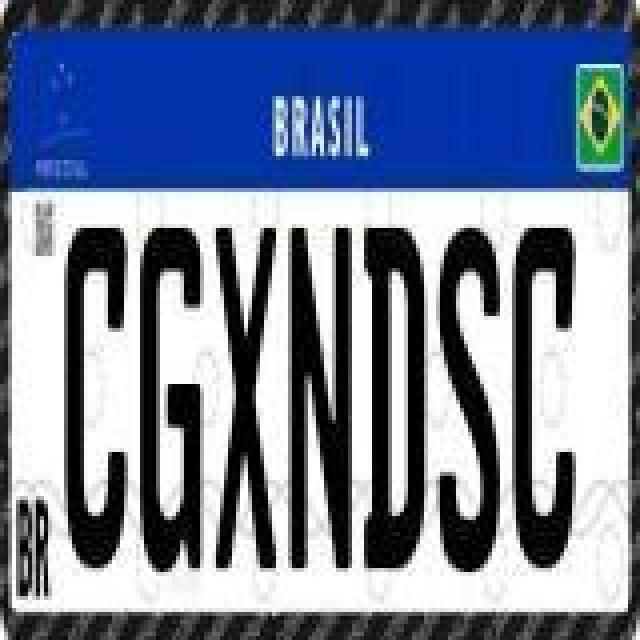C: (64, 224, 128, 576), (512, 224, 576, 576)
D: (360, 222, 424, 578)
G: (136, 226, 200, 574)
N: (288, 226, 352, 574)
S: (440, 224, 504, 576)
X: (214, 224, 282, 576)
